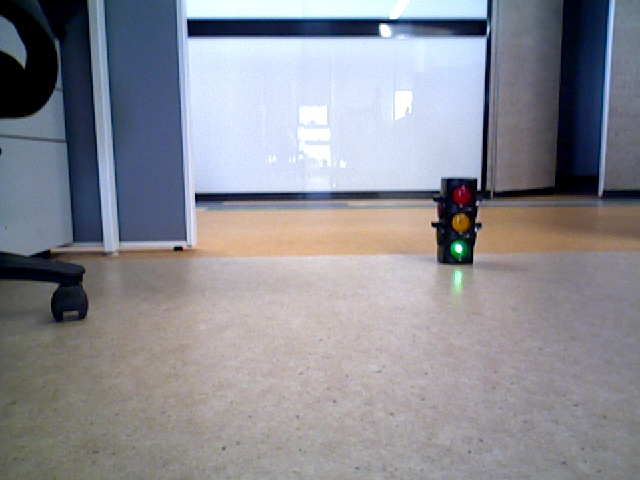green: (437, 178, 476, 260)
